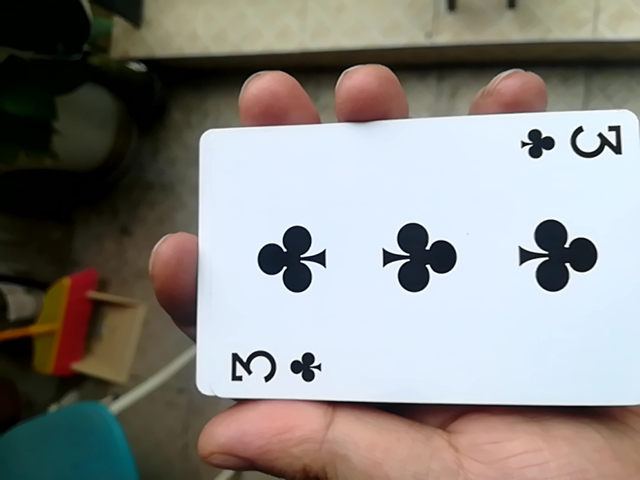mh 3: (172, 115, 636, 419)
